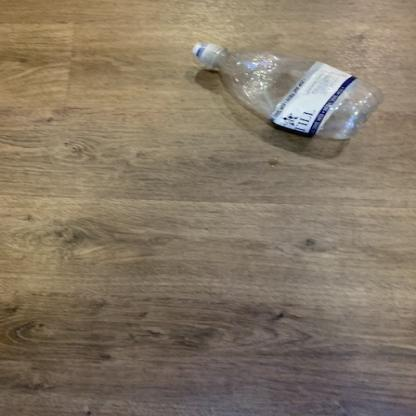trash: (188, 41, 386, 144)
